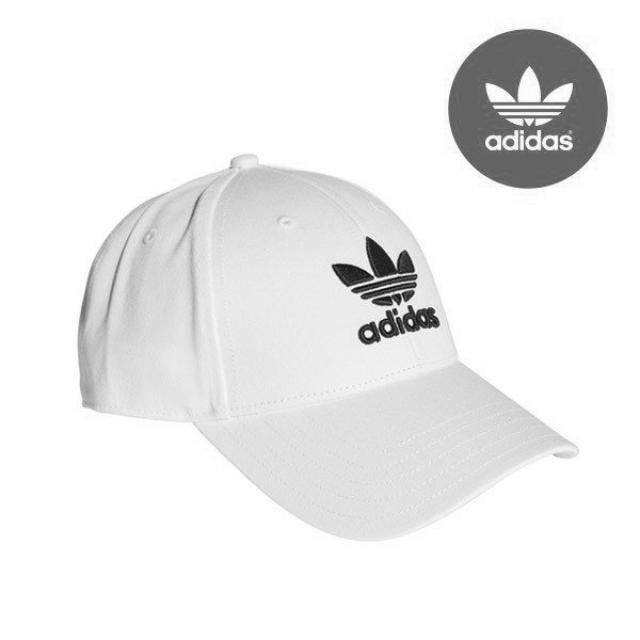Adidas: (473, 43, 592, 139), (319, 225, 430, 316)
